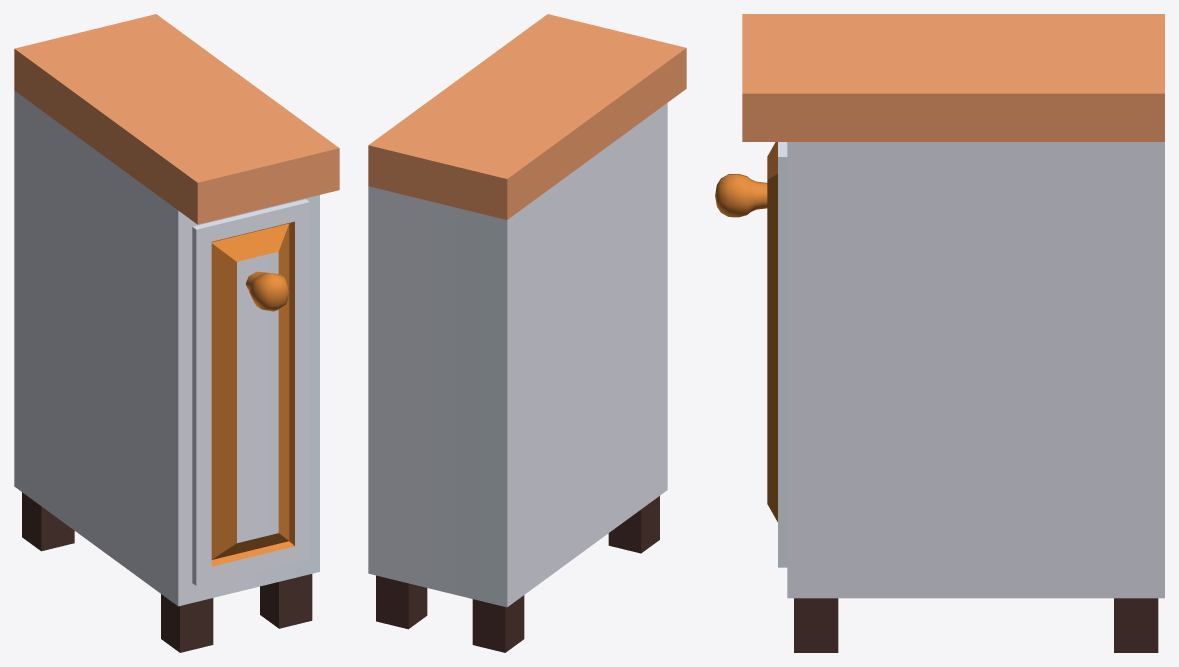
The model's file is Prop_KitchenCabinet_01_A.fbx.
3 views of the same model, side by side, from view 1: azimuth 30°, elevation 25°; view 2: azimuth 150°, elevation 25°; view 3: azimuth 270°, elevation 25° (orthographic). The views are drawn at different scales.
Visible parts, largest first — view 1: Prop_KitchenCabinet_01_A; view 2: Prop_KitchenCabinet_01_A; view 3: Prop_KitchenCabinet_01_A.
Part boxes in pixels (x1,y1,x2,y2): Prop_KitchenCabinet_01_A: [14, 14, 339, 652]; Prop_KitchenCabinet_01_A: [368, 14, 686, 652]; Prop_KitchenCabinet_01_A: [715, 14, 1164, 652].
Bounding box in the file's own units: 30 × 98.53 × 71.49.
